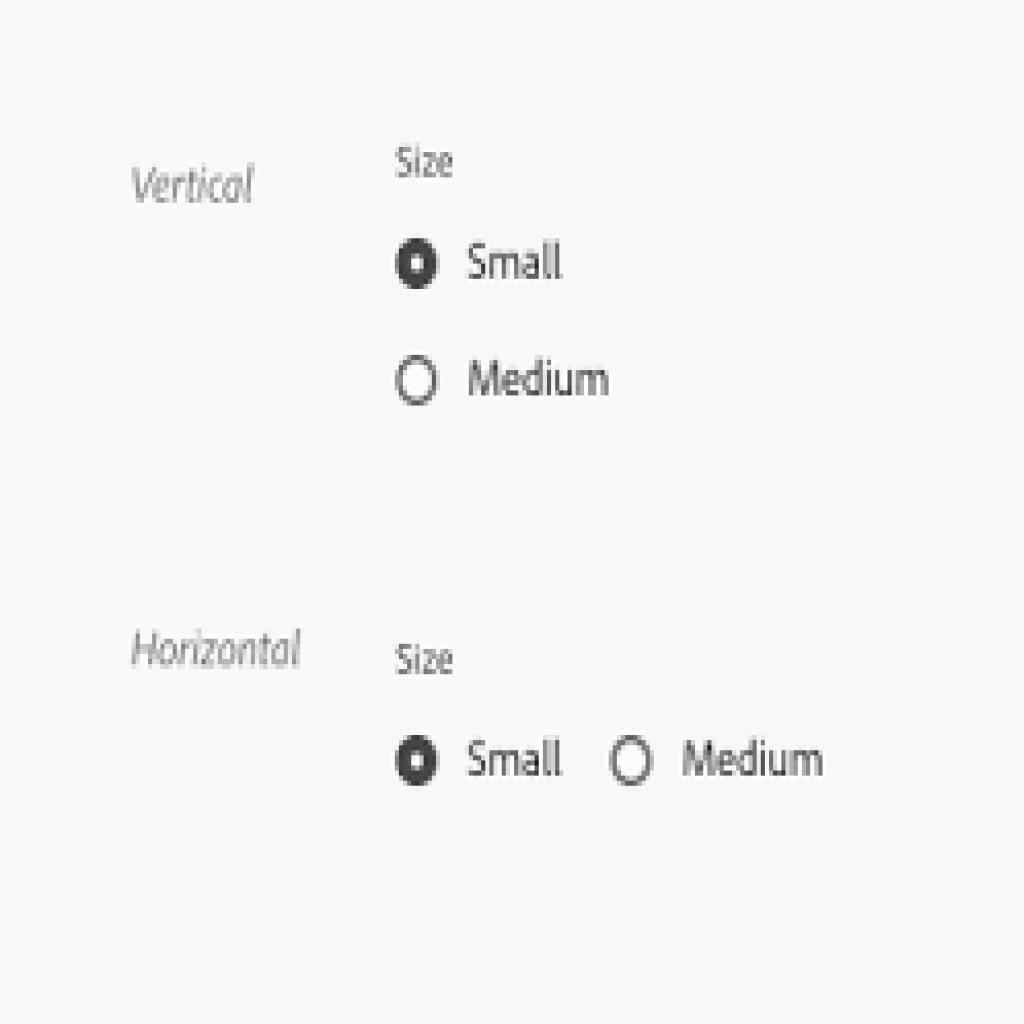radio: (393, 227, 444, 302), (391, 349, 444, 419), (394, 732, 446, 792), (606, 733, 660, 790)
